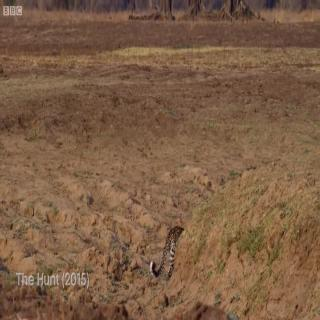Leopard: (149, 225, 185, 288)
